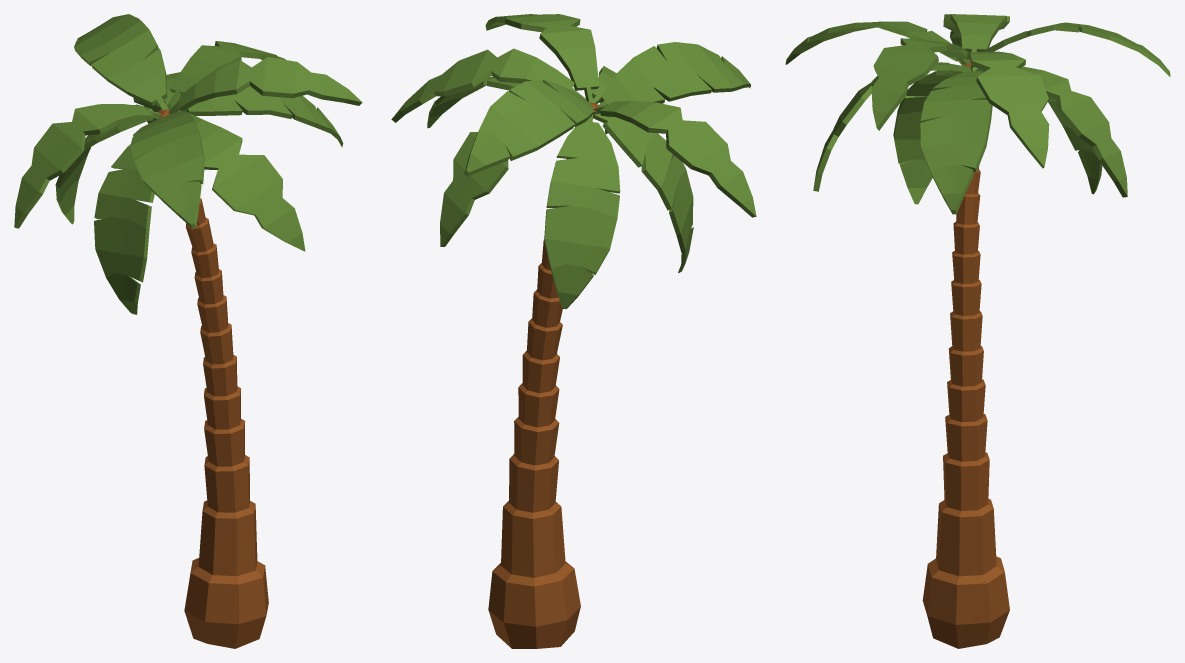
The model's file is tree006.gltf.
The picture shows the model from 3 angles, left to right: view 1: azimuth 30°, elevation 25°; view 2: azimuth 150°, elevation 25°; view 3: azimuth 270°, elevation 25°; orthographic projection. The views are drawn at different scales.
Parts seen in each view (by area): view 1: node_tree006_-195314; view 2: node_tree006_-195314; view 3: node_tree006_-195314.
Part boxes in pixels (x1,y1,x2,y2): node_tree006_-195314: (14,14,362,648); node_tree006_-195314: (391,14,756,648); node_tree006_-195314: (785,14,1170,648).
Bounding box in the file's own units: 1.96 × 3.42 × 1.98.
Materials: 1 (1 with a texture image).
